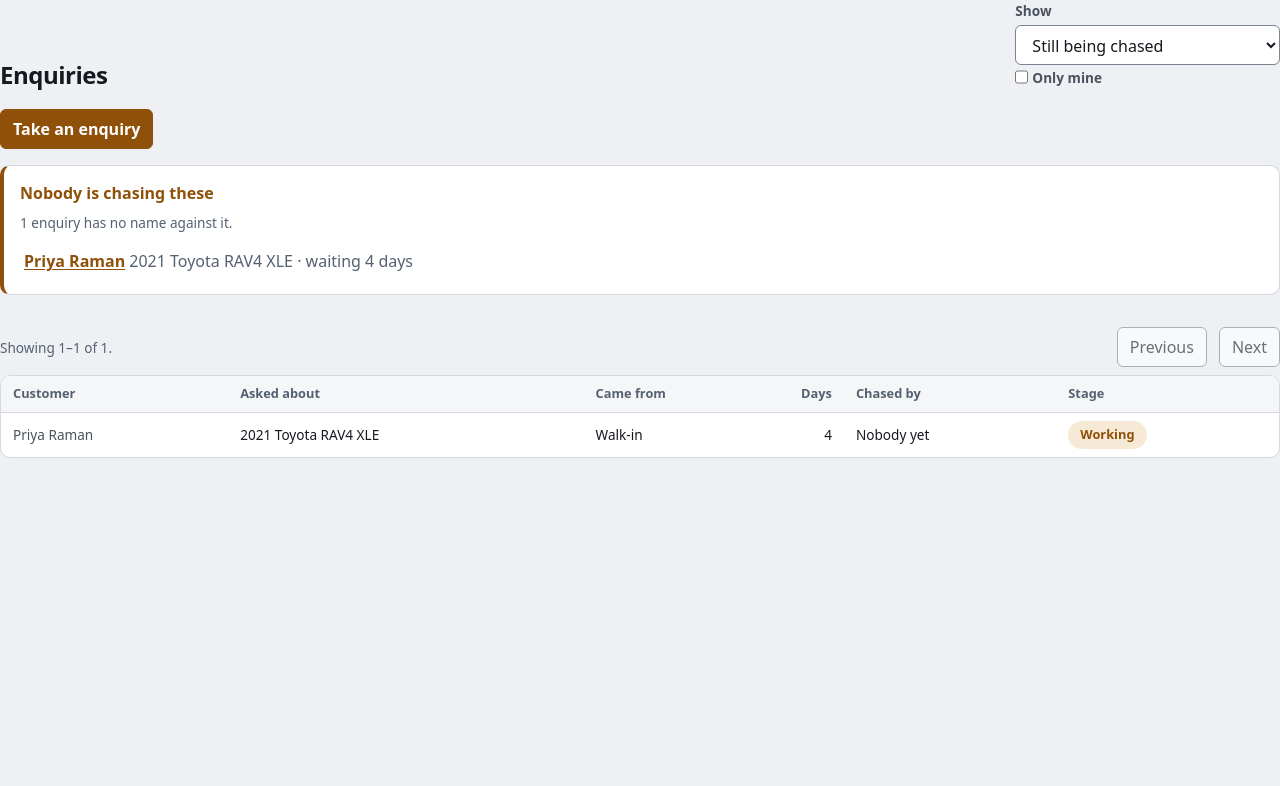
it: one enquiry › offers exactly the moves the server allows, and nothing else
The image size is (1280, 786).
Expected: the table is shown, [1, 376, 1279, 457]
Step 1. Click the button "Priya Raman" in the row of "Walk-in" → (115, 435), box [13, 423, 216, 447]
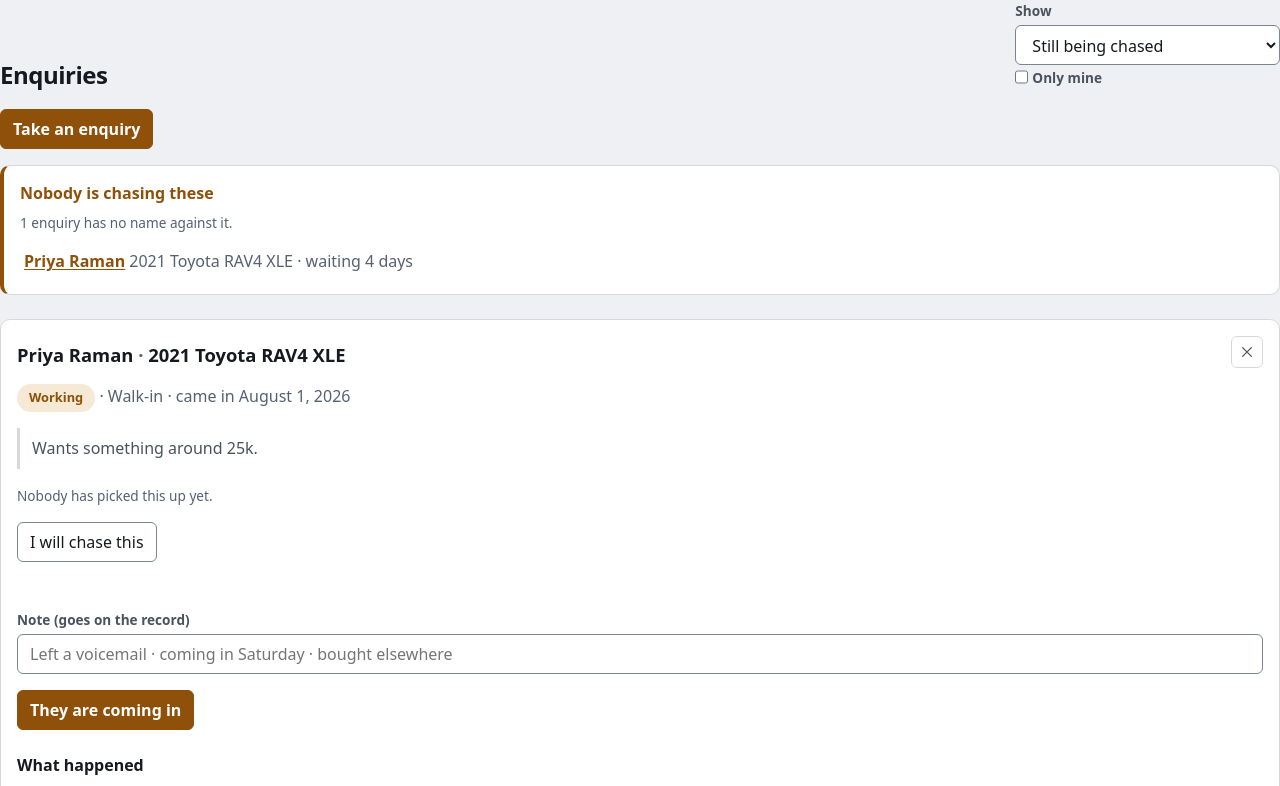
Result: the button "They are coming in" is shown at [17, 690, 194, 730]
